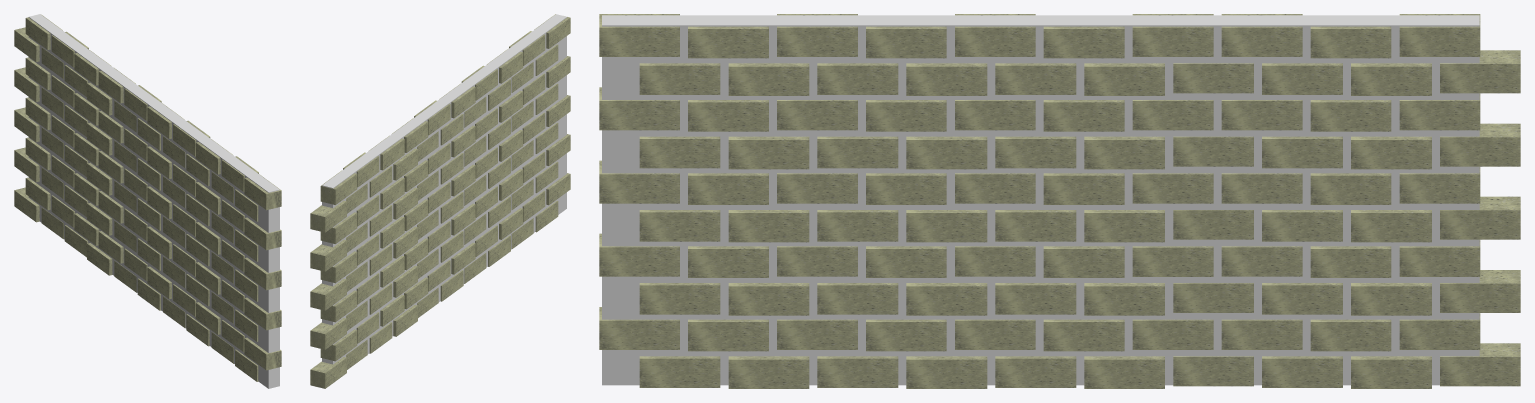
File: BrickWallWithLargeBricksPartial.glb
3 renders of one model, left to right at view 1: azimuth 30°, elevation 25°; view 2: azimuth 150°, elevation 25°; view 3: azimuth 270°, elevation 25°, orthographic. The views are drawn at different scales.
Visible parts, largest first — view 1: BrickWallWithLargeBricksPartial; view 2: BrickWallWithLargeBricksPartial; view 3: BrickWallWithLargeBricksPartial.
Part boxes in pixels (x1,y1,x2,y2): BrickWallWithLargeBricksPartial: (14, 14, 281, 388); BrickWallWithLargeBricksPartial: (310, 14, 570, 388); BrickWallWithLargeBricksPartial: (599, 14, 1520, 388).
Bounding box in the file's own units: 0.4784 × 4.92 × 11.4.
2 materials, 1 textured.
